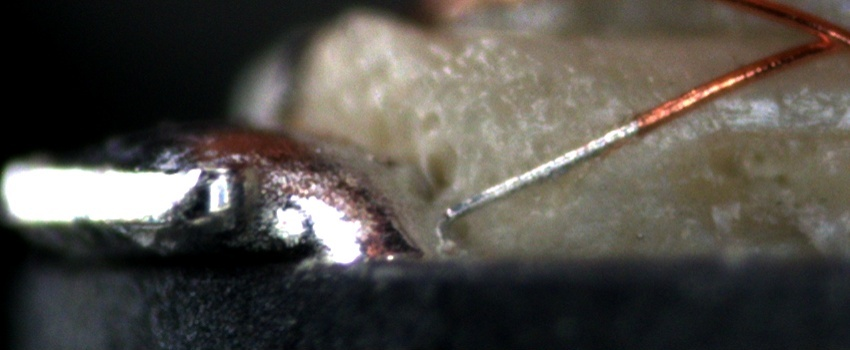CL: (791, 11, 850, 59)
DL: (659, 86, 850, 133)
TS: (441, 116, 642, 220)
